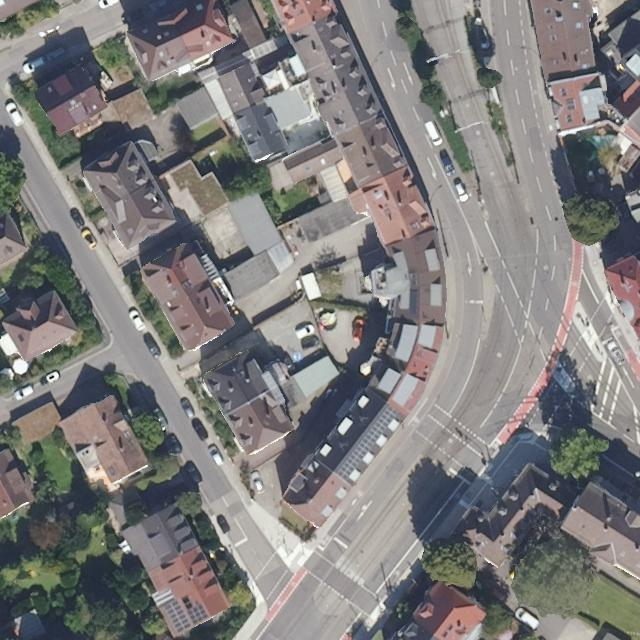PV: (335, 406, 399, 482), (162, 598, 192, 634), (186, 602, 210, 626), (567, 98, 574, 109)
